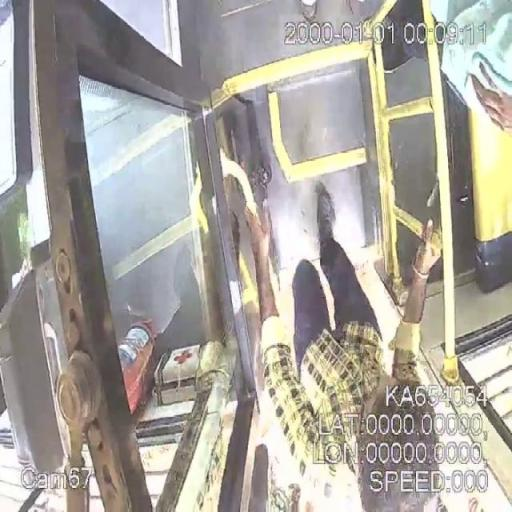persona: (242, 192, 444, 510)
